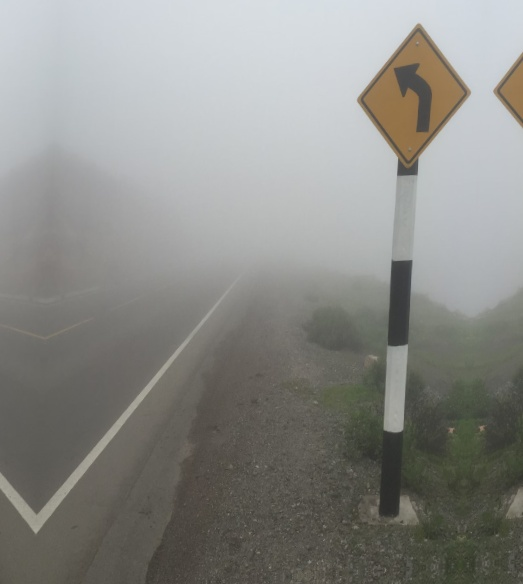Turn left: (347, 20, 473, 173)
